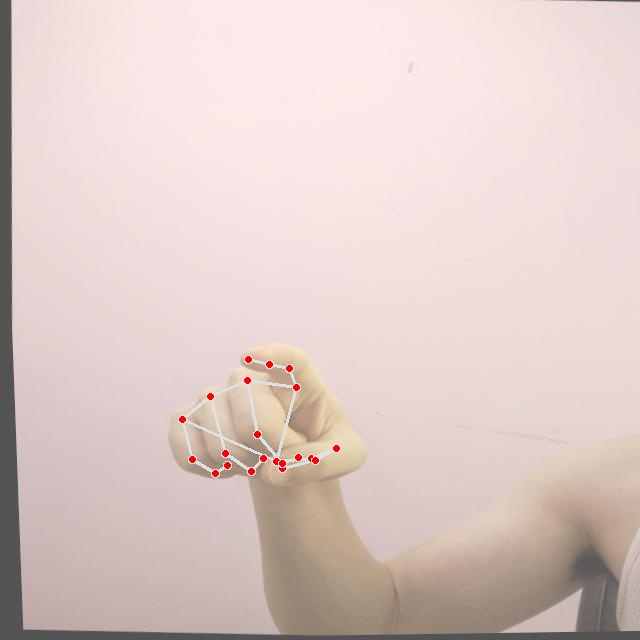Z: (151, 336, 374, 495)
